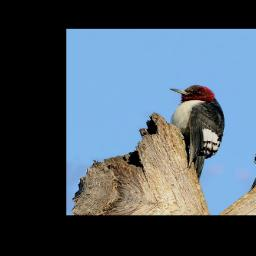Woodpecker: (139, 80, 240, 181)
